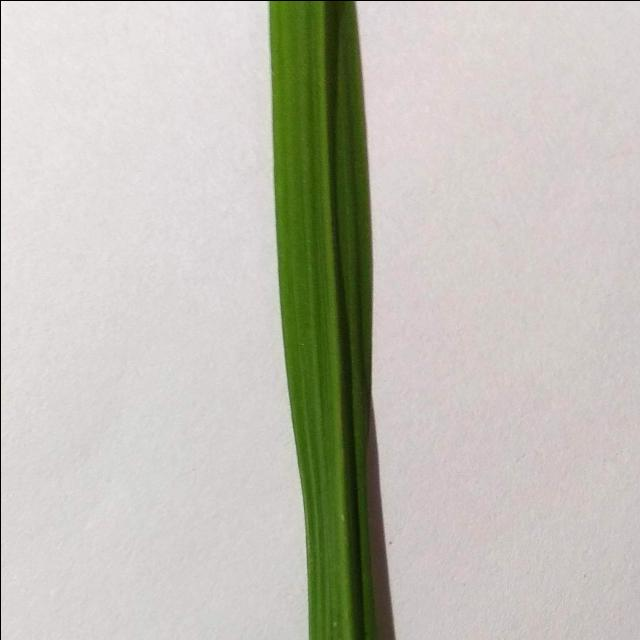healthy: (178, 0, 401, 640)
